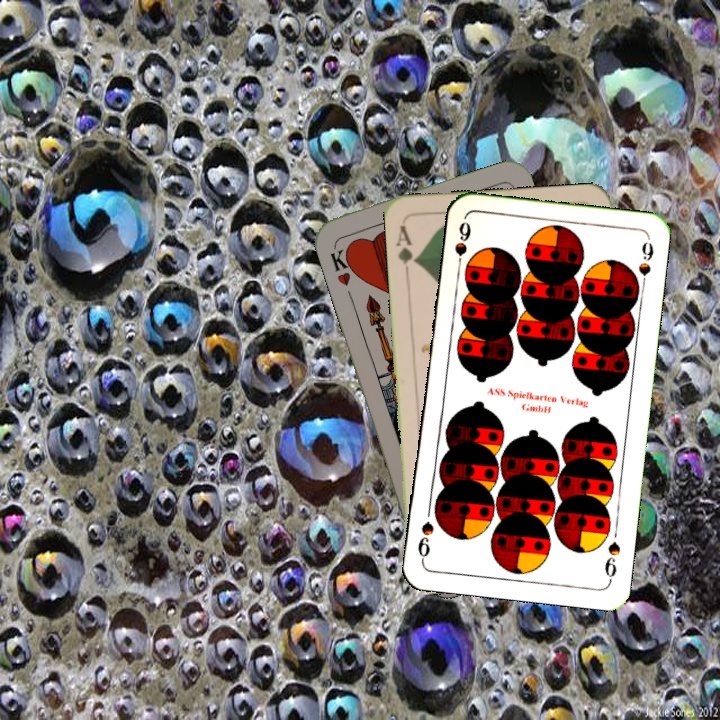GA: (392, 221, 421, 279)
HK: (326, 241, 360, 289)
S9: (451, 217, 474, 276), (600, 537, 623, 584)
